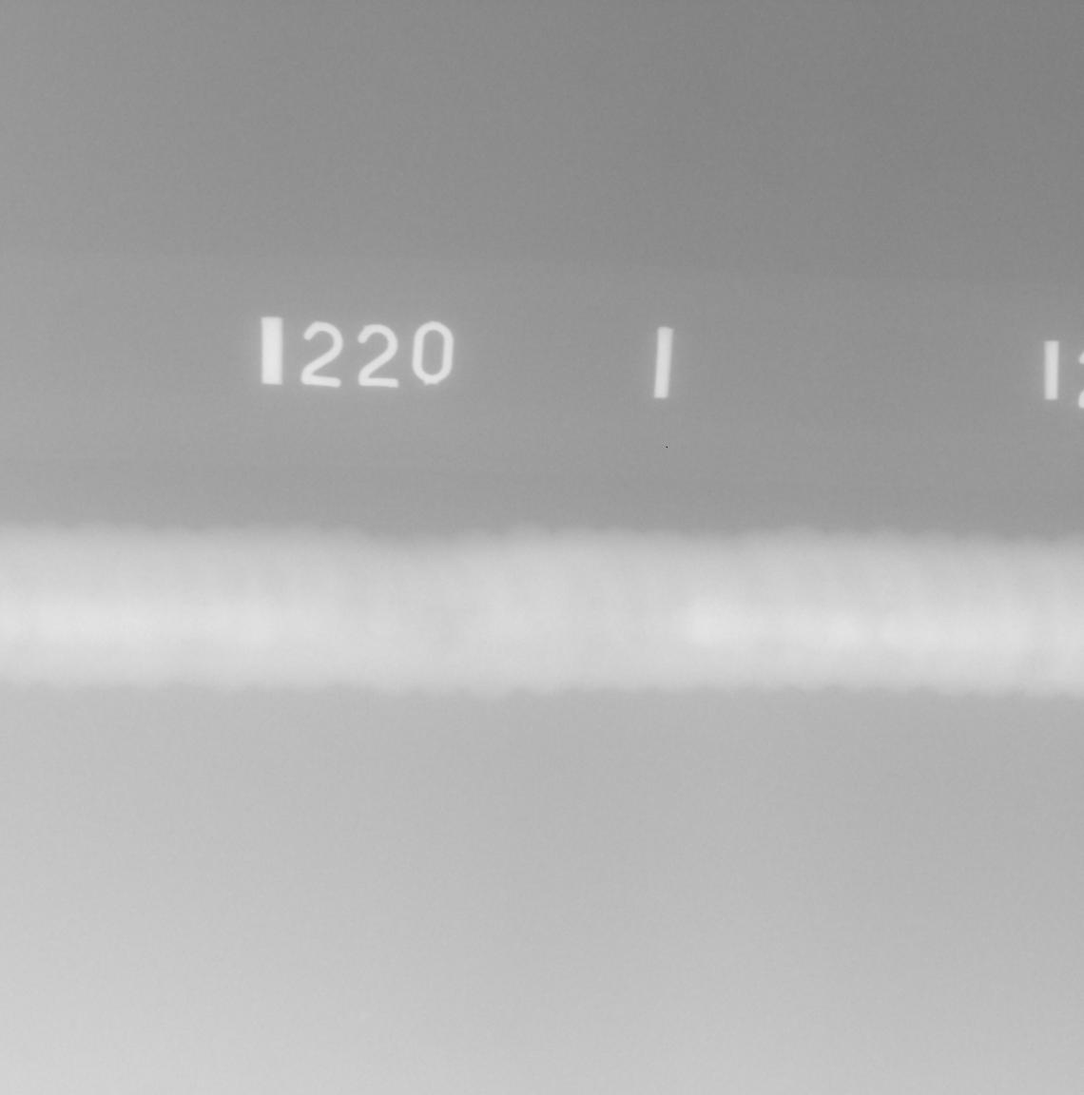Pore/Porosity: (203, 600, 212, 605)
